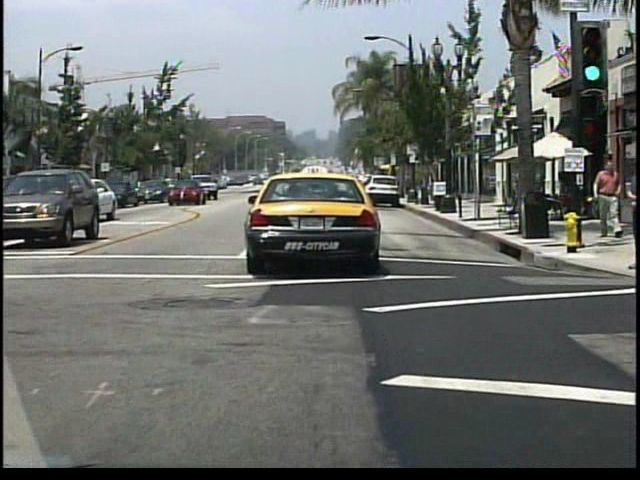person: (591, 159, 620, 238)
